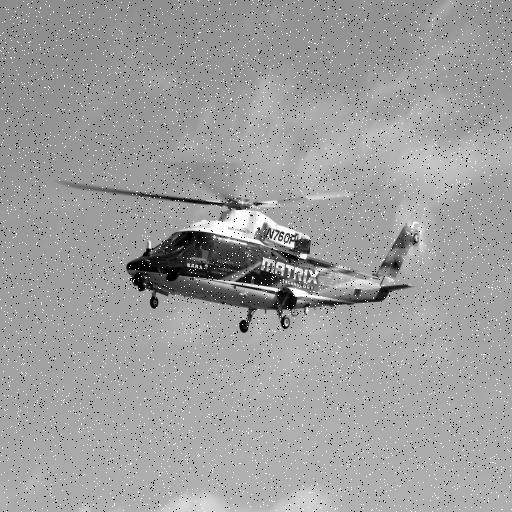helicopter: (60, 167, 436, 339)
